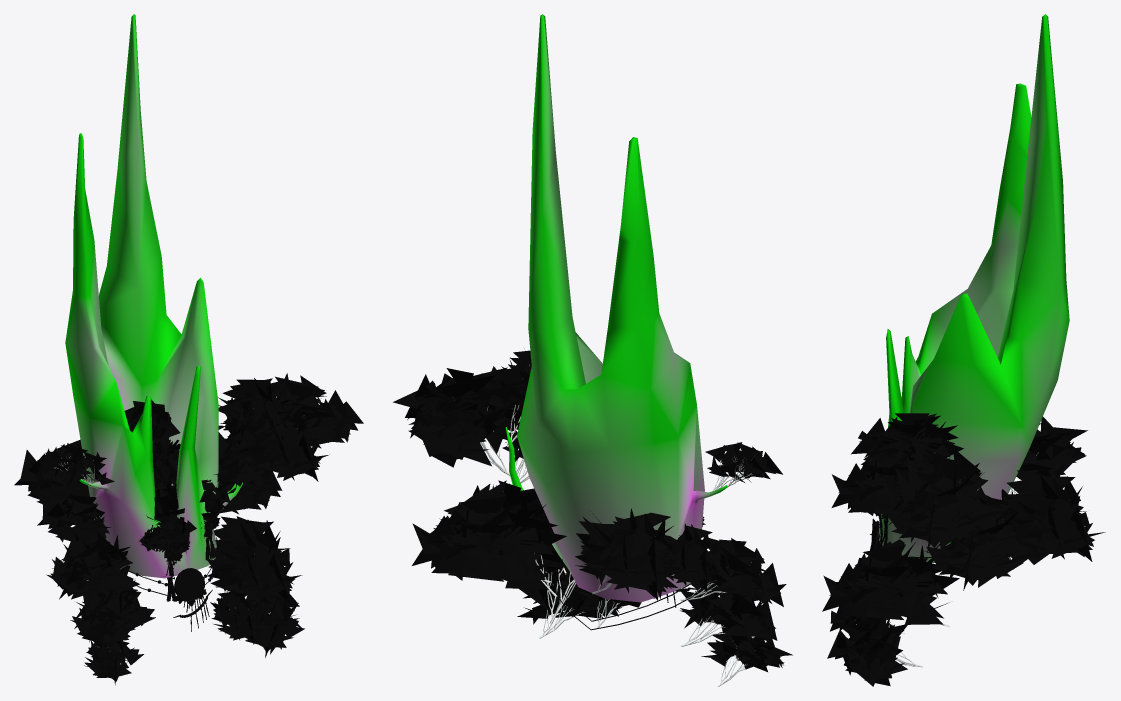
3 renders of one model, left to right at view 1: azimuth 30°, elevation 25°; view 2: azimuth 150°, elevation 25°; view 3: azimuth 270°, elevation 25°, orthographic. The views are drawn at different scales.
Visible parts, largest first — view 1: G:\FFXIV-MapTools\exports\f1f2\bg\ffxiv\fst_f1\fld\f1f2\bgpa (×3); view 2: G:\FFXIV-MapTools\exports\f1f2\bg\ffxiv\fst_f1\fld\f1f2\bgpa (×4); view 3: G:\FFXIV-MapTools\exports\f1f2\bg\ffxiv\fst_f1\fld\f1f2\bgpa (×2).
Boxes of the visible parts, x1,y1,x2,y2 form: G:\FFXIV-MapTools\exports\f1f2\bg\ffxiv\fst_f1\fld\f1f2\bgpa (×3): (14, 14, 363, 685); G:\FFXIV-MapTools\exports\f1f2\bg\ffxiv\fst_f1\fld\f1f2\bgpa (×4): (393, 14, 792, 686); G:\FFXIV-MapTools\exports\f1f2\bg\ffxiv\fst_f1\fld\f1f2\bgpa (×2): (822, 14, 1105, 686).
Bounding box in the file's own units: 51.34 × 89.88 × 36.9.
